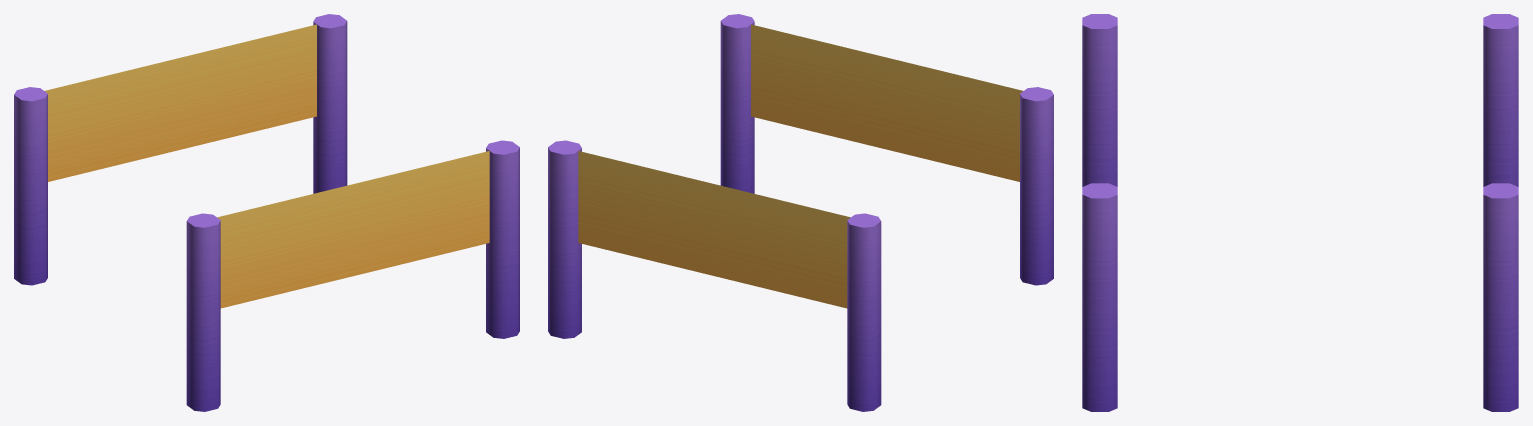
File: banner-double-col.glb
The picture shows the model from 3 angles, left to right: view 1: azimuth 30°, elevation 25°; view 2: azimuth 150°, elevation 25°; view 3: azimuth 270°, elevation 25°; orthographic projection. The views are drawn at different scales.
Parts seen in each view (by area): view 1: banner-double-col; view 2: banner-double-col; view 3: banner-double-col.
Boxes of the visible parts, x1,y1,x2,y2 form: banner-double-col: [14, 14, 519, 411]; banner-double-col: [548, 14, 1053, 411]; banner-double-col: [1082, 14, 1518, 411].
Size of the model in its own units: 0.925 by 0.5 by 0.925.
Materials: 1 (1 with a texture image).
